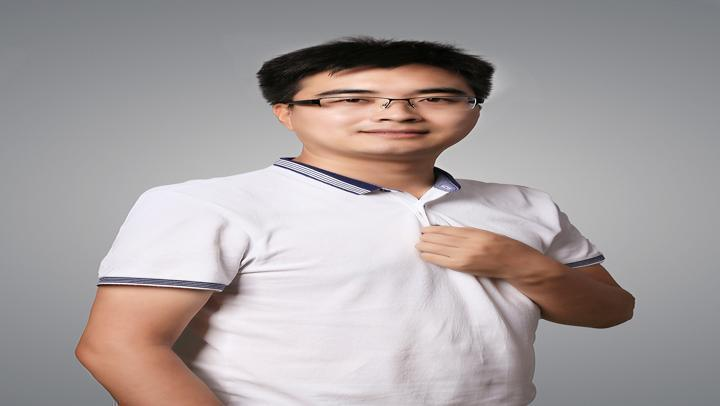safetyhat: (75, 38, 618, 381)
